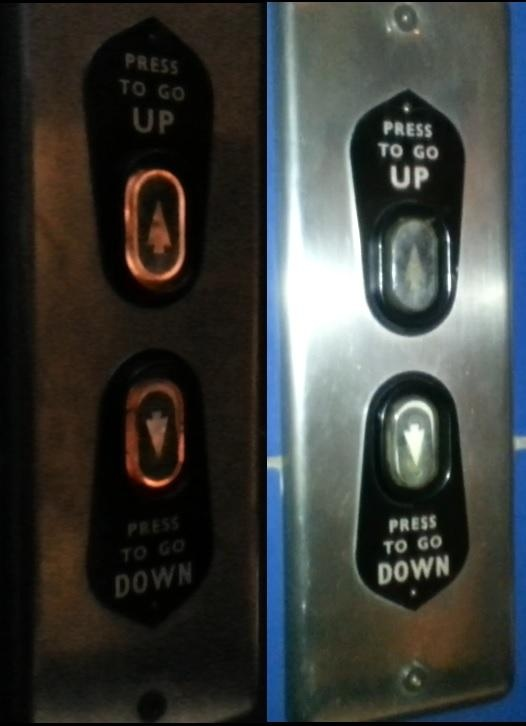down: (372, 371, 455, 507), (127, 381, 184, 486)
up: (369, 199, 455, 333), (126, 167, 188, 282)
